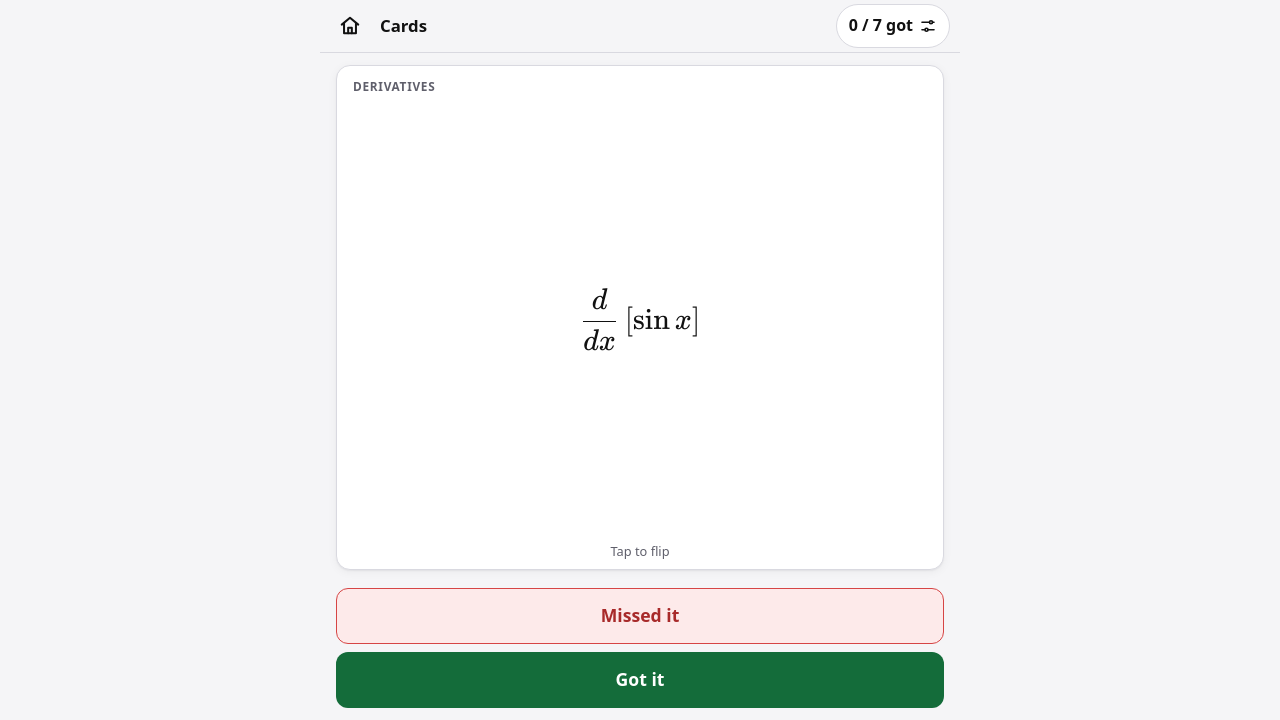
Scenario: study session › the counter opens the filters; Resume continues; missed-only picks the last-missed cards
Earlier steps of the test are not shown.
Click the button "Missed it" at (640, 616), box 336,588 -> 944,644
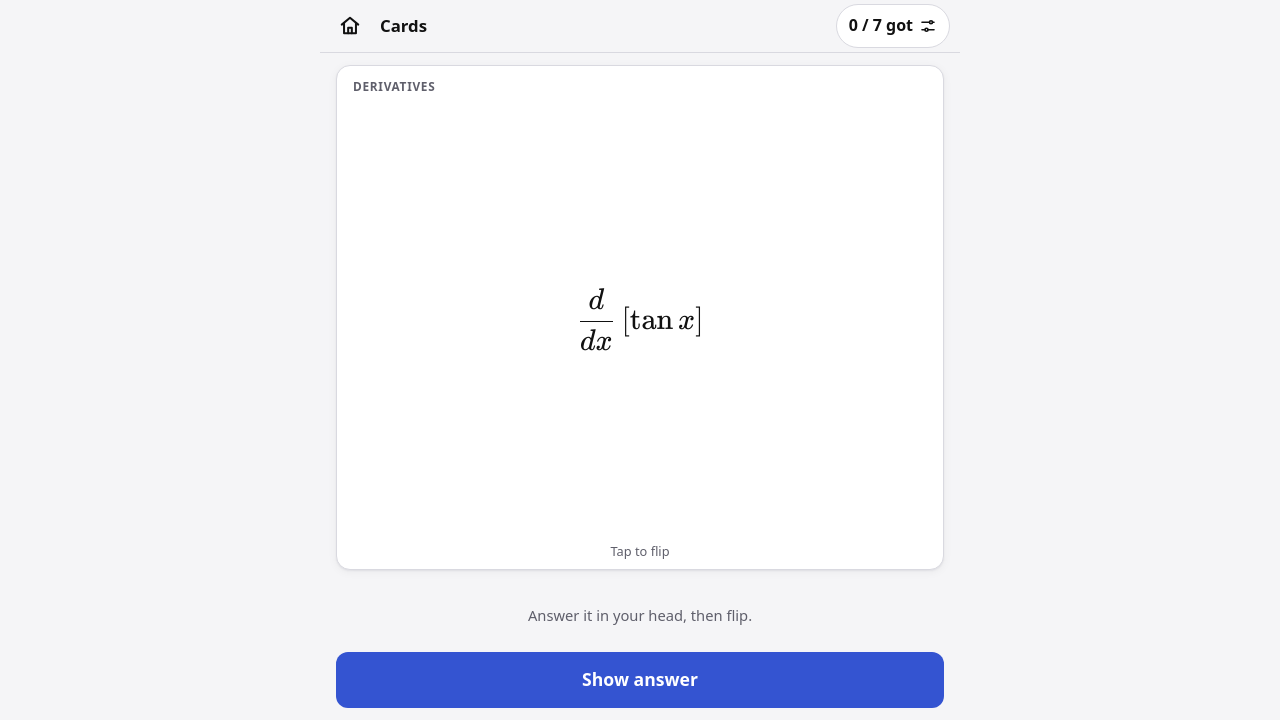
Click the button with class "cards-counter" at (893, 26), box 836,4 -> 950,48
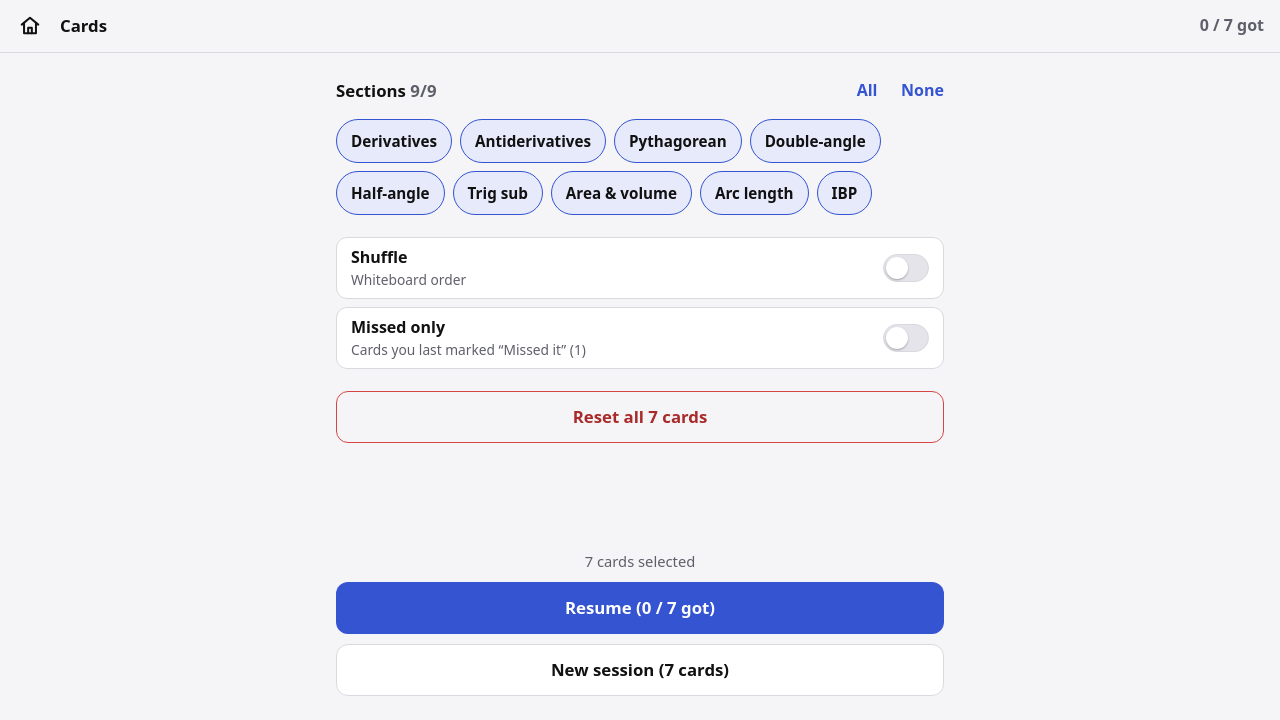
Expected: the switch labelled "Missed only Cards you last marked “Missed it” (1)" is shown, 336,307 -> 944,369
Click the button "Resume (0 / 7 got)" at (640, 608), box 336,582 -> 944,634
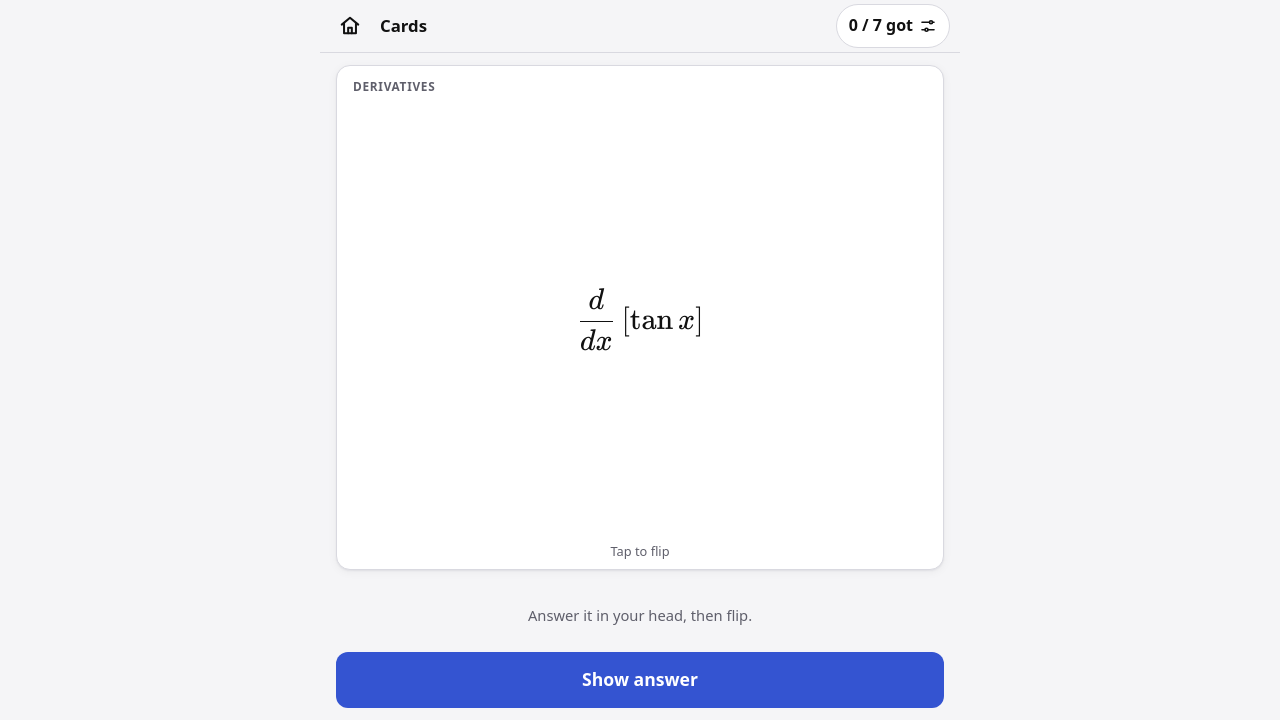
Click the button with class "cards-counter" at (893, 26), box 836,4 -> 950,48
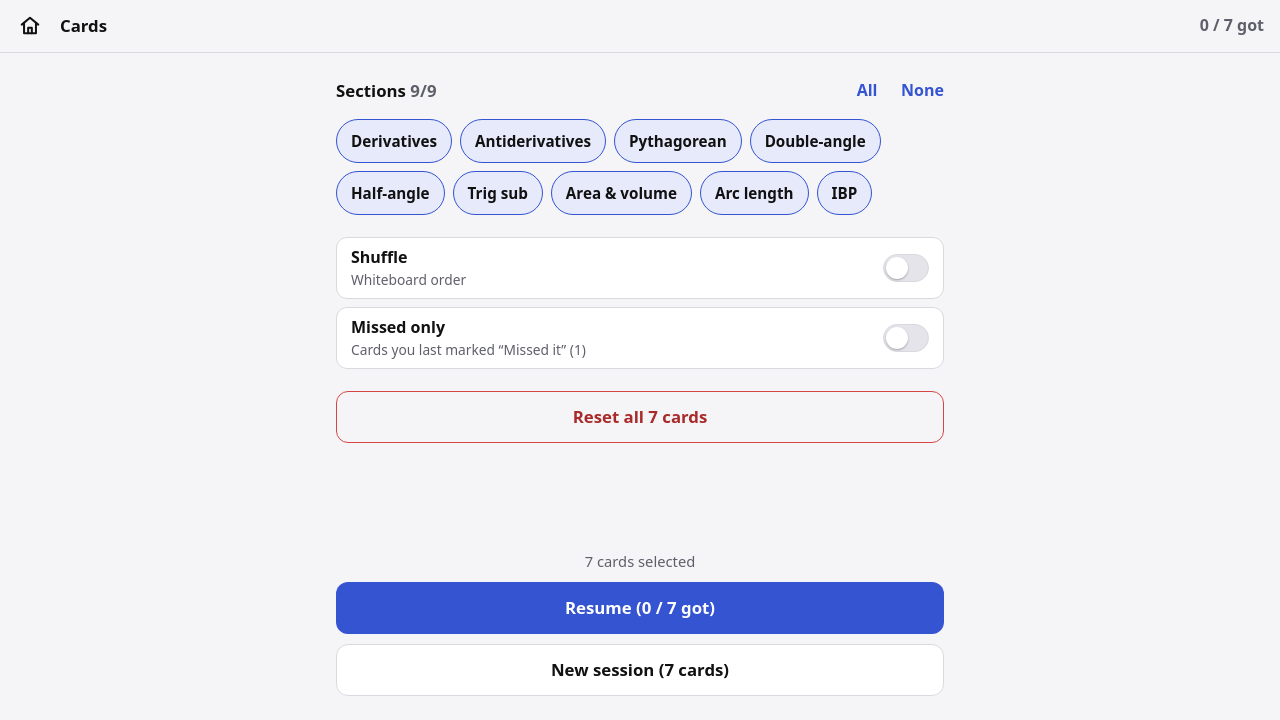
Click the switch labelled "Missed only Cards you last marked “Missed it” (1)" at (398, 327), box 336,307 -> 944,369
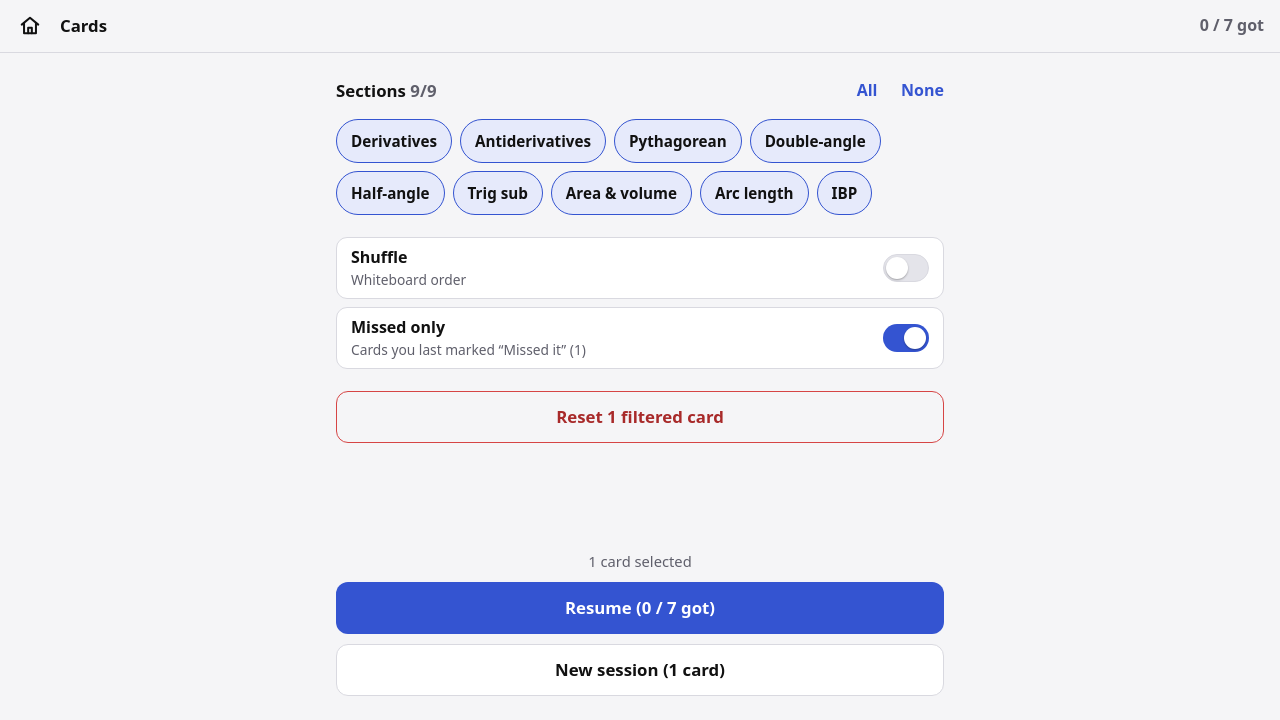
Expected: the text "1 card selected" is shown, 588,551 -> 692,571
Click the button "New session (1 card)" at (640, 670), box 336,644 -> 944,696
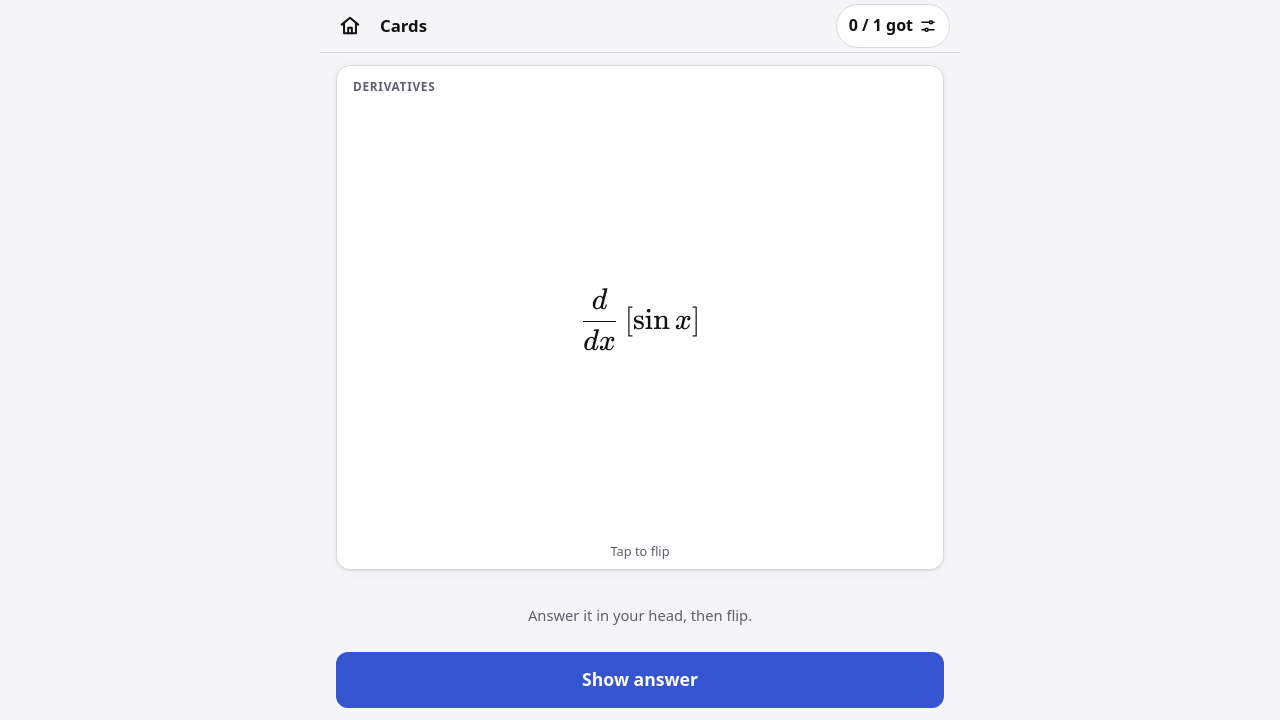
Expected: the text with class "cards-counter-text" reads "0 / 1 got", 849,14 -> 913,36
